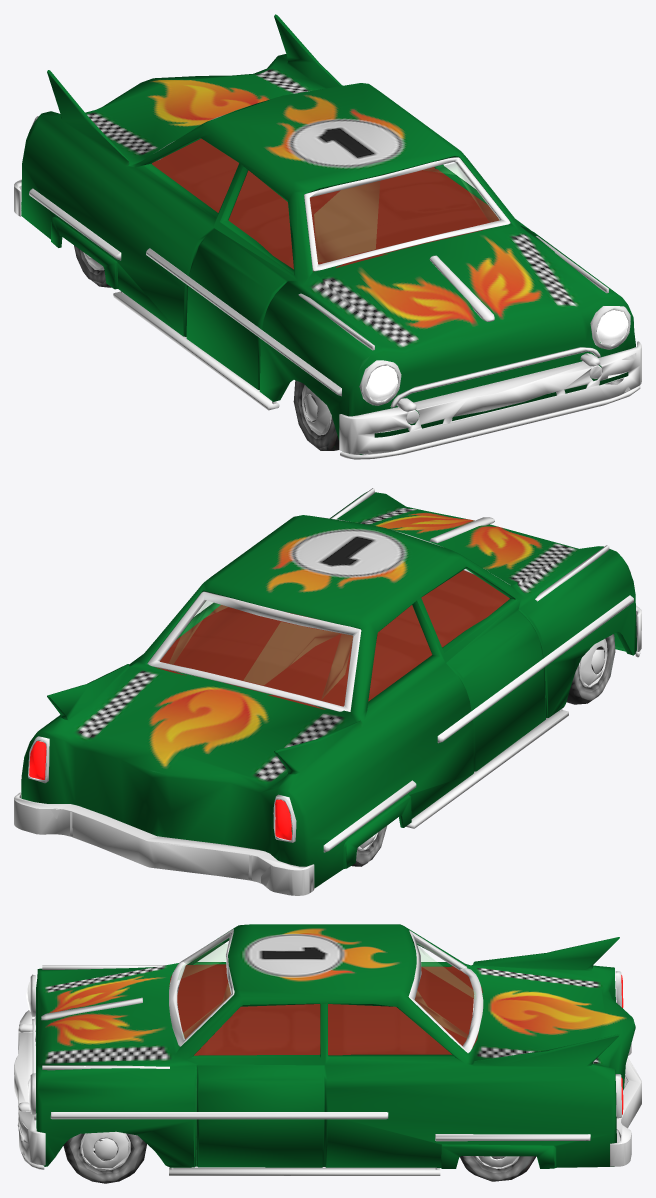
Rendered from kh_toycar.glb.
3 renders of one model, top to bottom at view 1: azimuth 30°, elevation 25°; view 2: azimuth 150°, elevation 25°; view 3: azimuth 270°, elevation 25°, orthographic. The views are drawn at different scales.
Parts seen in each view (by area): view 1: ToyCar, Glass; view 2: ToyCar, Glass; view 3: ToyCar, Glass.
Boxes of the visible parts, bbox=[...] form: ToyCar: bbox=[14, 14, 641, 459]; Glass: bbox=[314, 163, 499, 262]; ToyCar: bbox=[14, 488, 641, 895]; Glass: bbox=[169, 601, 352, 698]; ToyCar: bbox=[14, 924, 641, 1183]; Glass: bbox=[178, 940, 476, 1038].
Bounding box in the file's own units: 0.0187 × 0.0116 × 0.0384.
2 materials, 1 textured.
